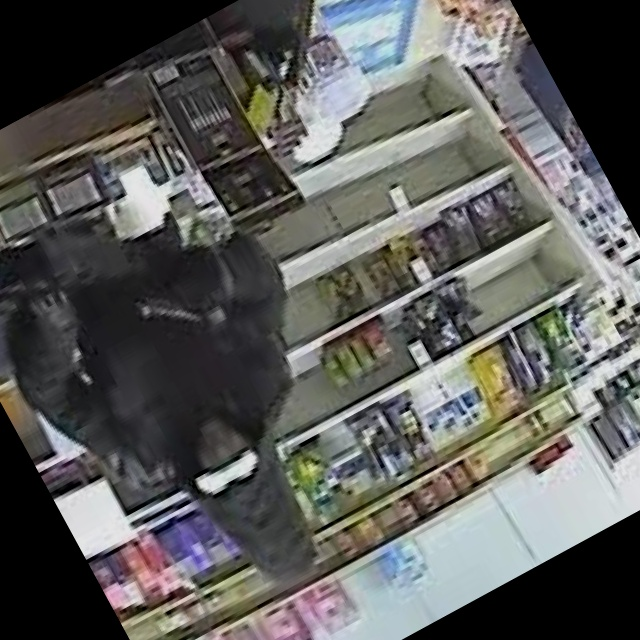gun: (125, 260, 221, 362)
